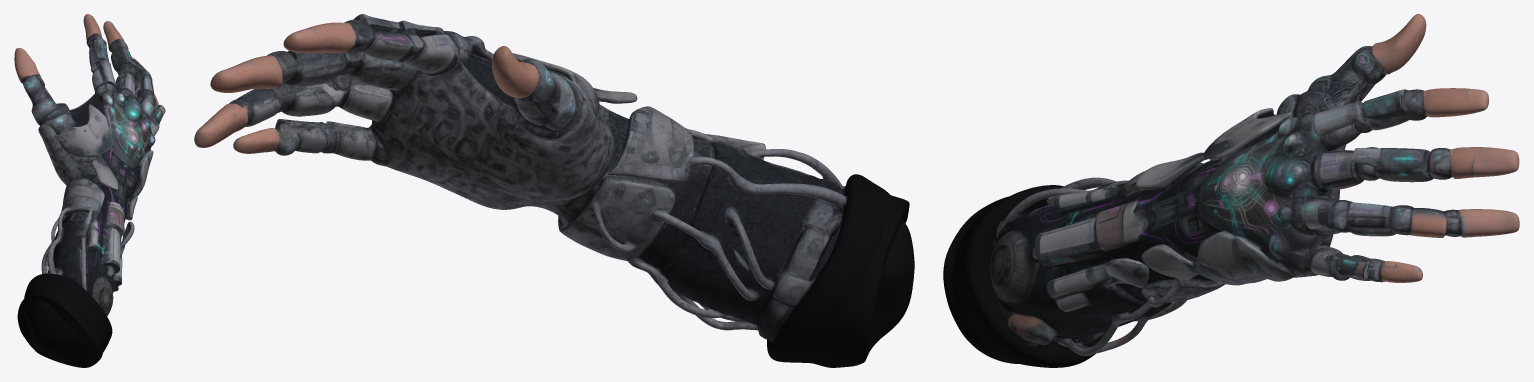
Rendered from hand.glb.
3 views of the same model, side by side, from view 1: azimuth 30°, elevation 25°; view 2: azimuth 150°, elevation 25°; view 3: azimuth 270°, elevation 25° (orthographic). The views are drawn at different scales.
Size of the model in its own units: 1.57 by 1.43 by 1.9.
1 material, 1 textured.
